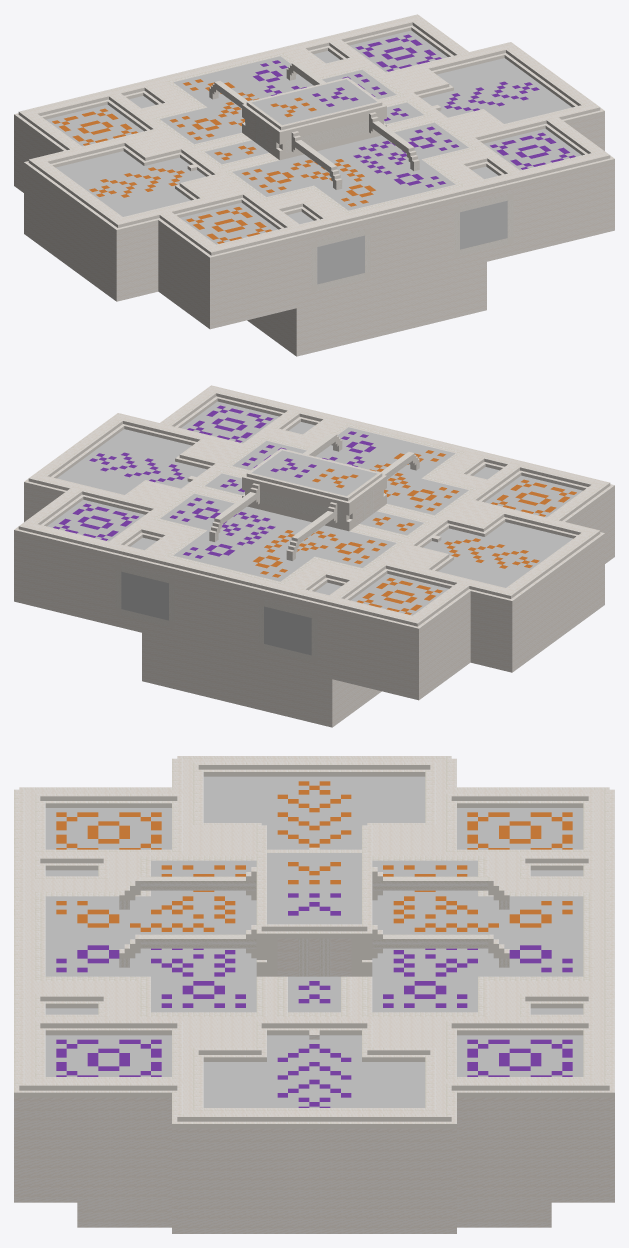
File: minecraft.obj
3 renders of one model, top to bottom at view 1: azimuth 30°, elevation 25°; view 2: azimuth 150°, elevation 25°; view 3: azimuth 270°, elevation 25°, orthographic. The views are drawn at different scales.
Bounding box in the file's own units: 82 × 28 × 57.
